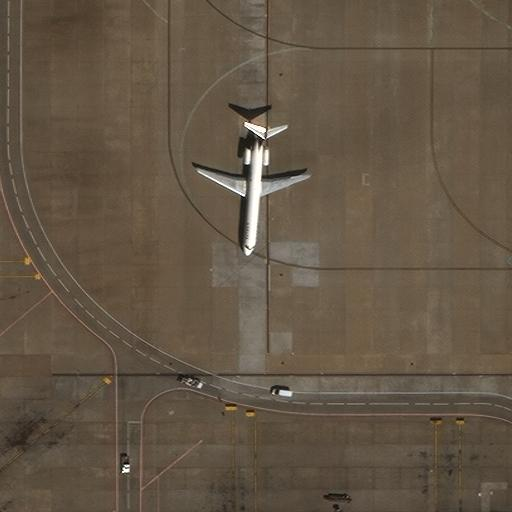Medium Civil Transport: (196, 125, 309, 255)
